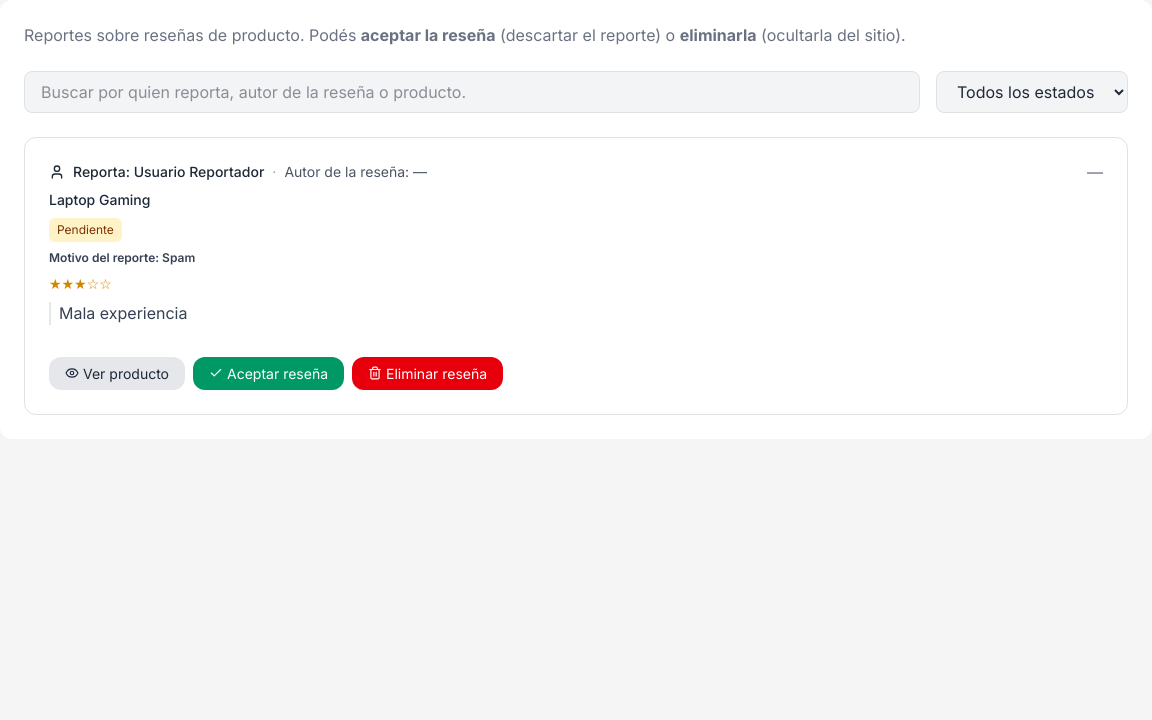
Test: ReviewReportsPanel › cancela el modal al hacer clic en Cancelar
The width and height of the screenshot is (1152, 720).
Check: the text "Laptop Gaming" is shown, box [49,191,150,208]
Click the button "Eliminar reseña" at (428, 373), box [352,357,503,390]
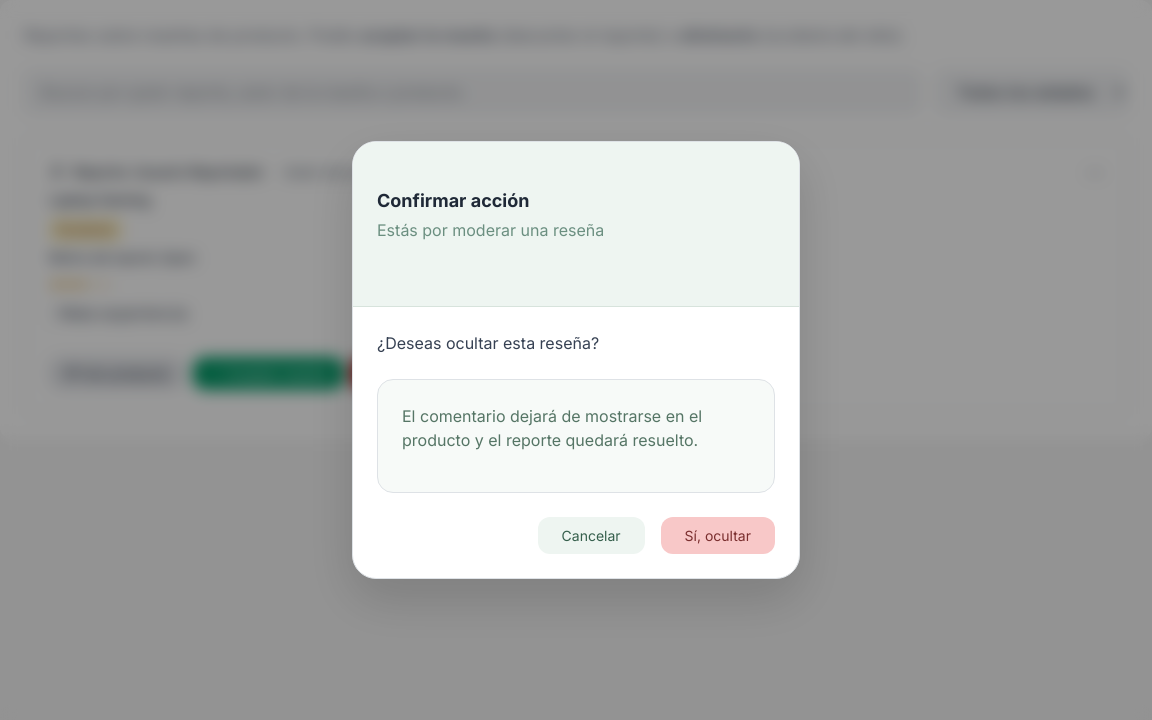
Click the button "Cancelar" at (591, 536), box [538,517,645,554]
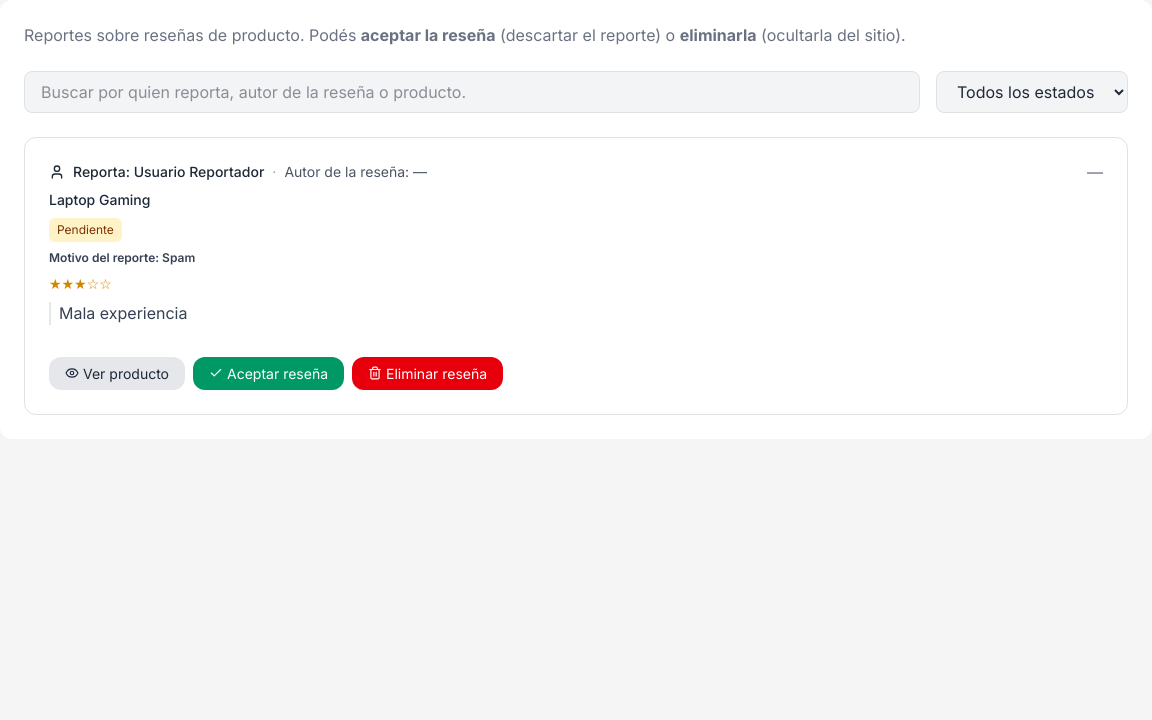
Check: the heading "Confirmar acción" is gone
